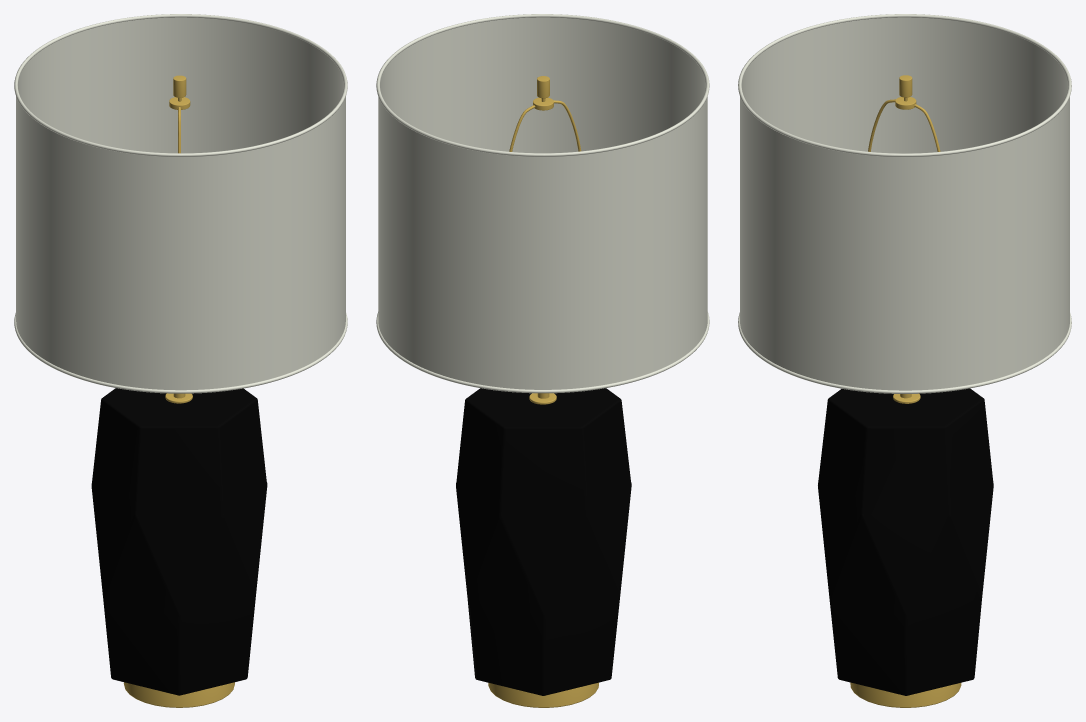
The model's file is tablelamp.gltf.
3 views of the same model, side by side, from view 1: azimuth 30°, elevation 25°; view 2: azimuth 150°, elevation 25°; view 3: azimuth 270°, elevation 25° (orthographic).
Parts seen in each view (by area): view 1: Object_7, Object_2, Object_8, Object_6; view 2: Object_7, Object_2, Object_8, Object_6, Object_4; view 3: Object_7, Object_2, Object_8, Object_6, Object_4.
Boxes of the visible parts, x1,y1,x2,y2 form: Object_7: (16, 17, 345, 390); Object_2: (91, 388, 267, 695); Object_8: (14, 14, 347, 393); Object_6: (123, 97, 234, 707); Object_7: (378, 17, 707, 389); Object_2: (456, 388, 631, 695); Object_8: (376, 14, 709, 393); Object_6: (488, 97, 598, 707); Object_4: (509, 76, 581, 151); Object_7: (740, 17, 1069, 390); Object_2: (818, 388, 993, 695); Object_8: (738, 14, 1071, 393); Object_6: (850, 97, 961, 707); Object_4: (868, 75, 940, 151).
Size of what is drawn, in the model's own units: 0.3071 by 0.6164 by 0.3071.
3 materials, 1 textured.
